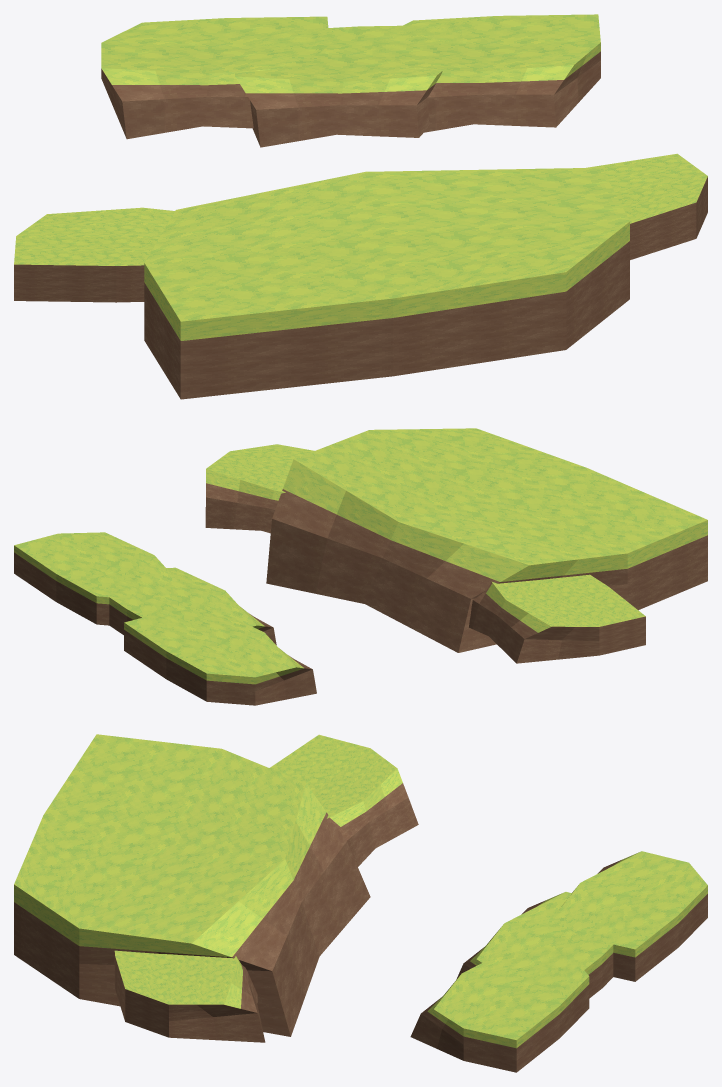
The model's file is river.obj.
3 renders of one model, top to bottom at view 1: azimuth 30°, elevation 25°; view 2: azimuth 150°, elevation 25°; view 3: azimuth 270°, elevation 25°, orthographic. The views are drawn at different scales.
Visible parts, largest first — view 1: Cube.001, Cube; view 2: Cube.001, Cube; view 3: Cube.001, Cube.
Boxes of the visible parts, bbox=[...] form: Cube.001: bbox=[14, 153, 707, 399]; Cube: bbox=[101, 14, 600, 147]; Cube.001: bbox=[205, 428, 707, 663]; Cube: bbox=[14, 532, 316, 705]; Cube.001: bbox=[14, 734, 418, 1042]; Cube: bbox=[410, 851, 707, 1072].
Bounding box in the file's own units: 54.97 × 8.8 × 52.6.
